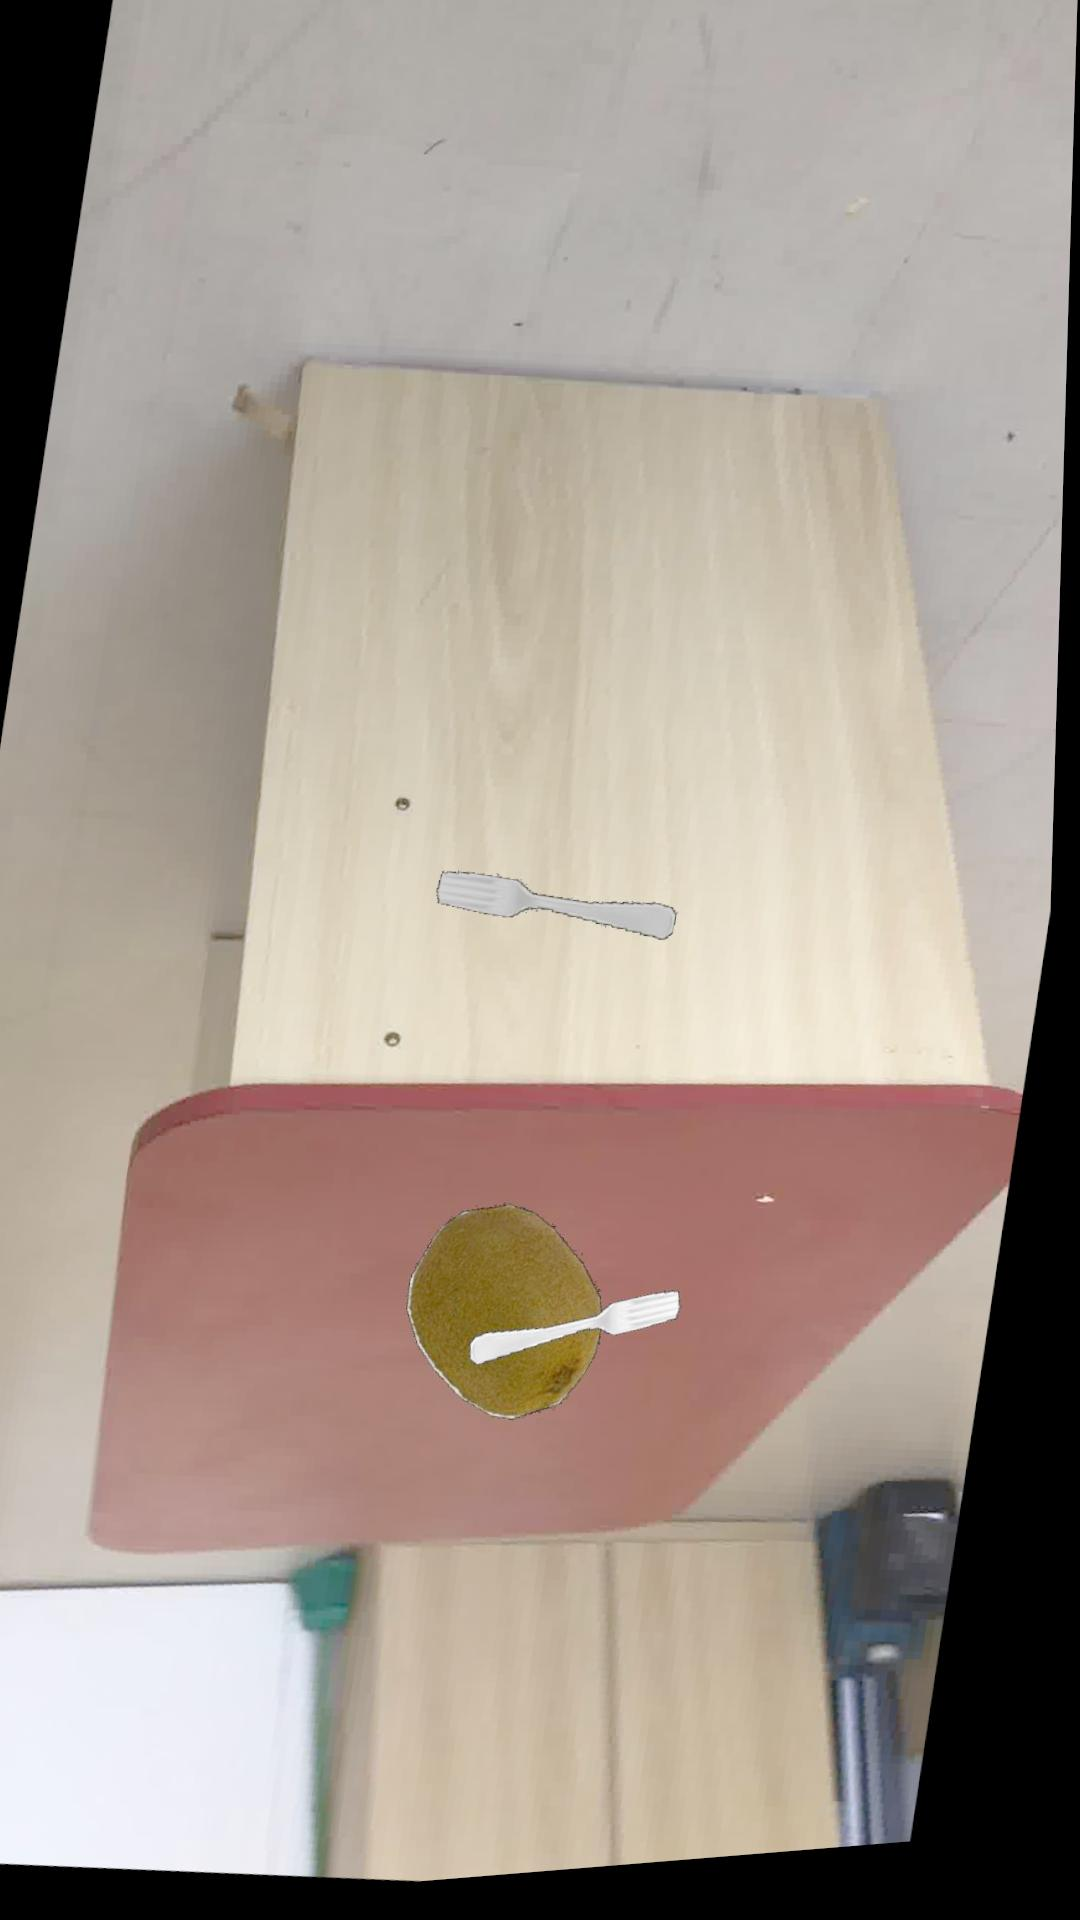fork: (443, 881, 683, 953), (479, 1304, 691, 1375)
kiwi: (415, 1215, 612, 1431)
